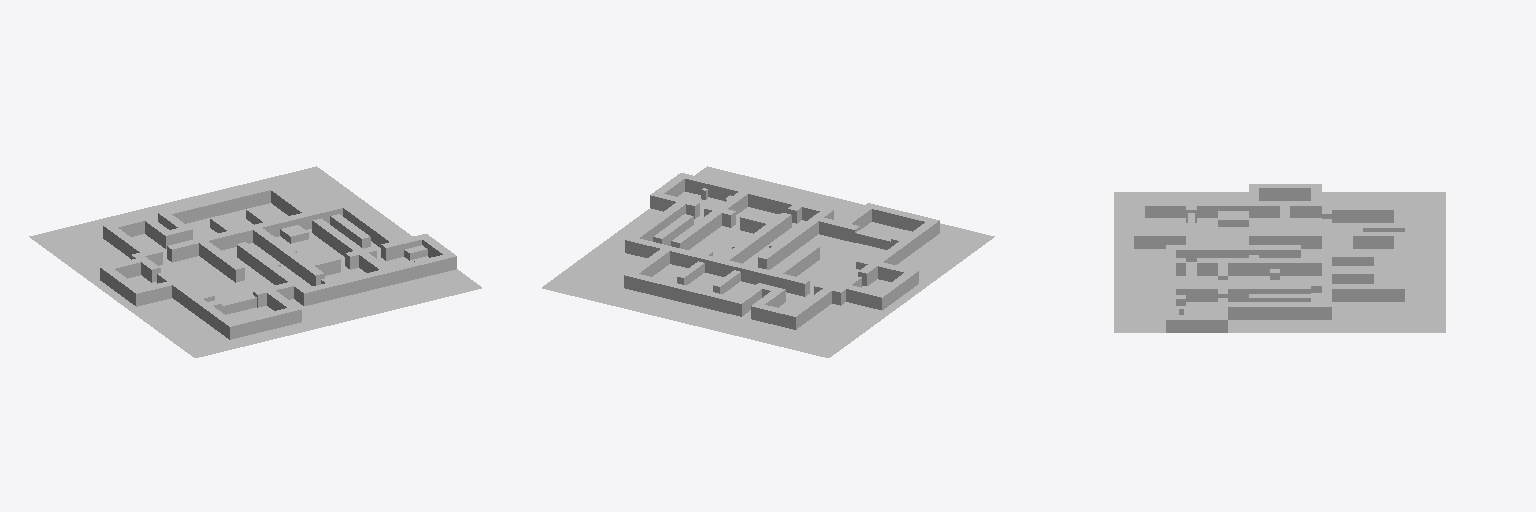
File: GrayBox_Meters OBJ.obj
The picture shows the model from 3 angles: view 1: azimuth 30°, elevation 25°; view 2: azimuth 150°, elevation 25°; view 3: azimuth 270°, elevation 25°; orthographic projection.
Parts seen in each view (by area): view 1: Walls, Ground1; view 2: Walls, Ground1; view 3: Ground1, Walls, Bookcase3.
Boxes of the visible parts, x1,y1,x2,y2 form: Walls: [100, 184, 456, 339]; Ground1: [29, 166, 481, 357]; Walls: [624, 173, 939, 329]; Ground1: [542, 166, 994, 357]; Ground1: [1114, 192, 1445, 332]; Walls: [1134, 184, 1404, 332]; Bookcase3: [1332, 271, 1373, 283].
Size of the model in its own units: 3200 by 137 by 3200.